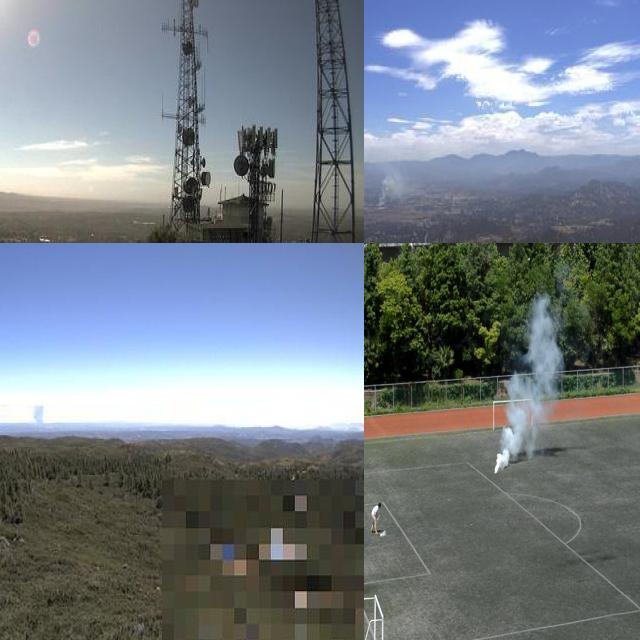smoke: (495, 294, 563, 471), (372, 161, 413, 210), (29, 402, 50, 435)
